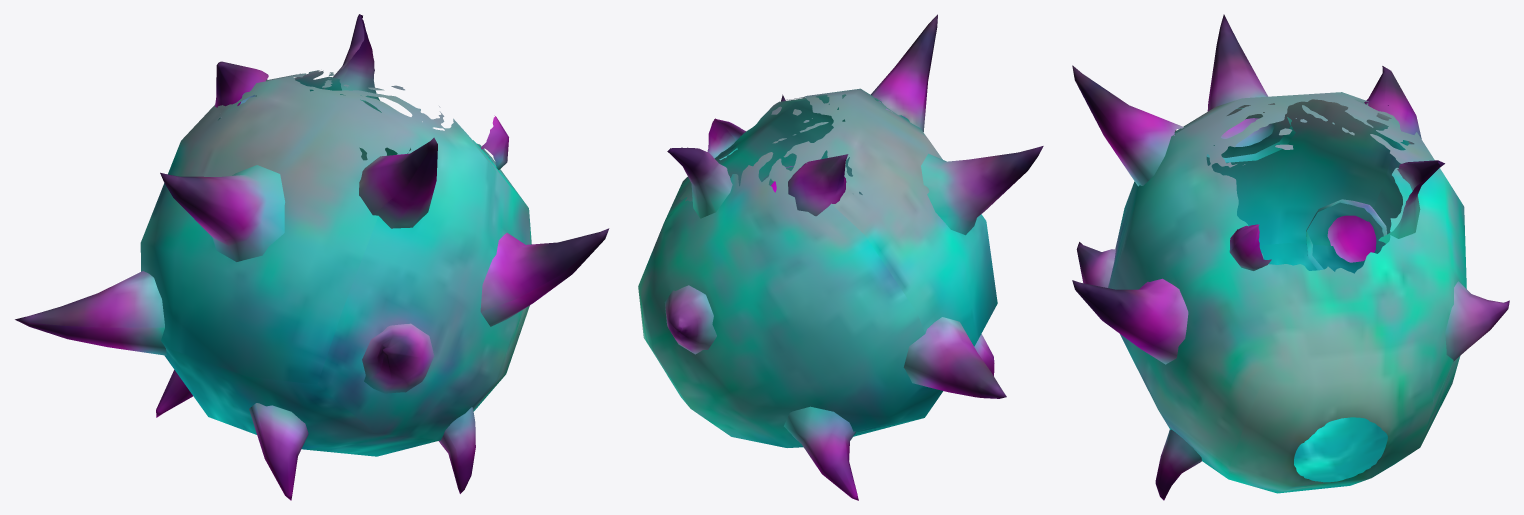
The picture shows the model from 3 angles, left to right: view 1: azimuth 30°, elevation 25°; view 2: azimuth 150°, elevation 25°; view 3: azimuth 270°, elevation 25°; orthographic projection. The views are drawn at different scales.
Parts seen in each view (by area): view 1: SM_Corpse_Cotton_Flower_02_LOD0; view 2: SM_Corpse_Cotton_Flower_02_LOD0; view 3: SM_Corpse_Cotton_Flower_02_LOD0.
Part boxes in pixels (box(x1,y1,x2,y2)): SM_Corpse_Cotton_Flower_02_LOD0: box(15, 14, 609, 500); SM_Corpse_Cotton_Flower_02_LOD0: box(638, 14, 1043, 500); SM_Corpse_Cotton_Flower_02_LOD0: box(1072, 14, 1509, 500).
Bounding box in the file's own units: 0.6463 × 0.5655 × 0.5594.
1 material, 1 textured.
